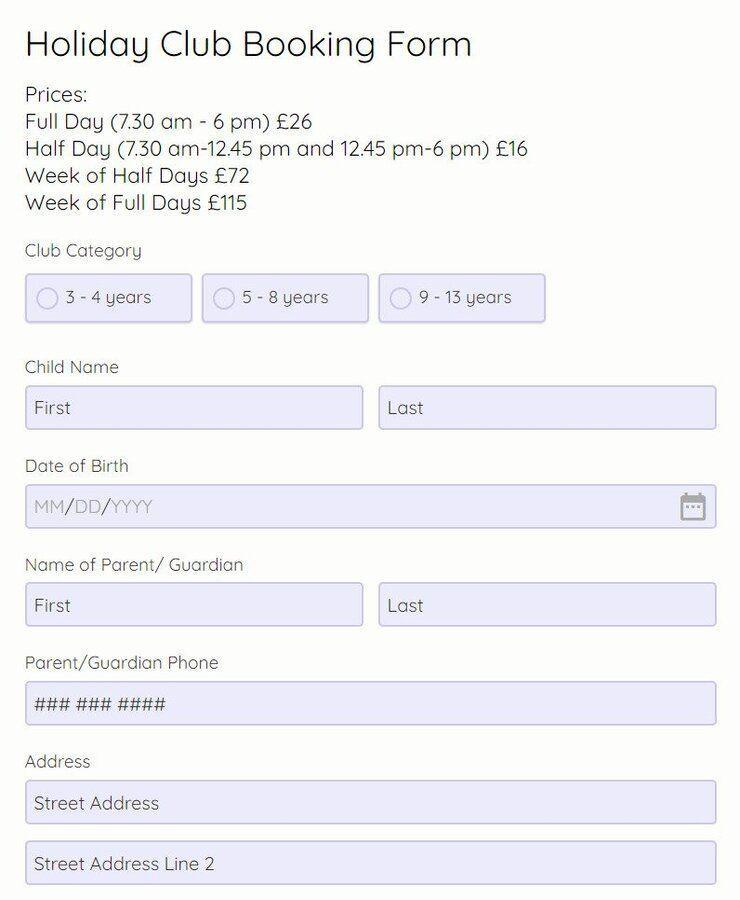input: (22, 838, 722, 891), (23, 776, 722, 829), (22, 678, 720, 730), (26, 486, 718, 530), (378, 580, 721, 631), (25, 383, 366, 434), (378, 384, 719, 434), (24, 582, 367, 630)
label: (22, 555, 247, 579), (22, 653, 225, 675), (25, 237, 146, 266), (416, 285, 517, 311), (240, 288, 335, 312), (22, 356, 121, 379), (27, 458, 130, 479), (66, 287, 156, 311), (26, 748, 96, 771)
radio: (212, 286, 239, 312), (36, 287, 61, 314), (388, 287, 414, 311)
